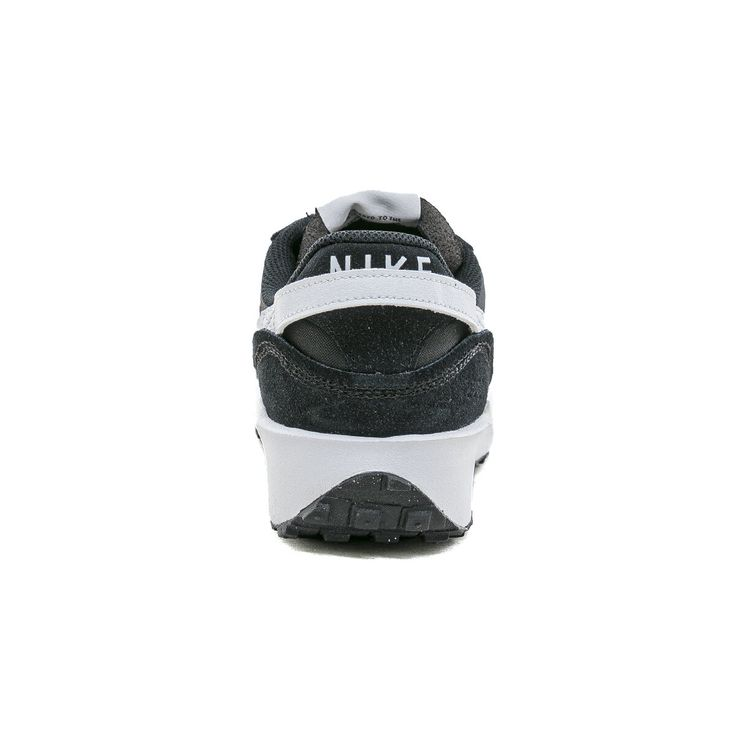gamuza: (250, 244, 495, 439)
